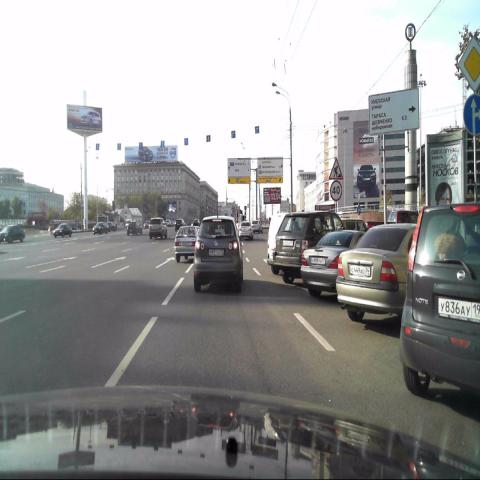1_25: (327, 156, 344, 181)
2_1: (458, 35, 480, 95)
3_24: (330, 180, 342, 202)
